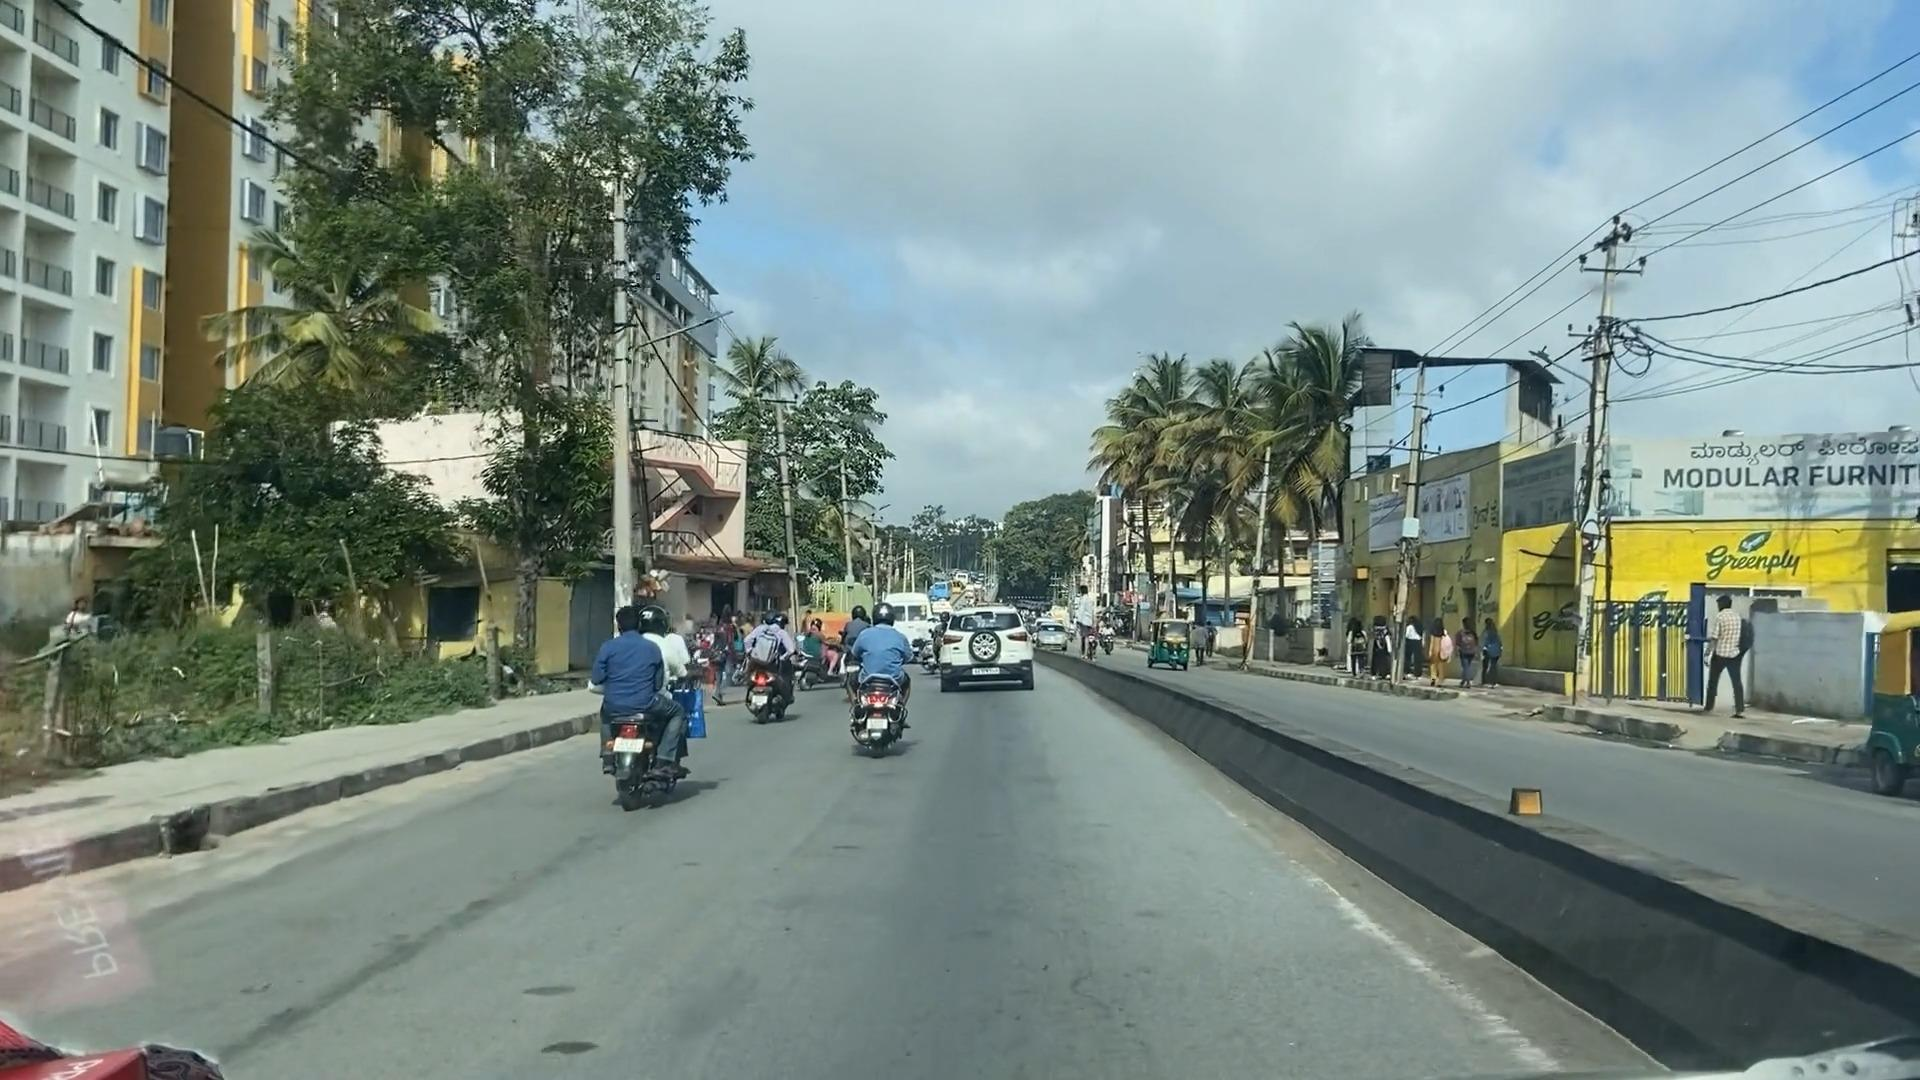LMV: (596, 611, 703, 812), (851, 611, 909, 754), (938, 608, 1033, 694), (748, 618, 800, 732)
